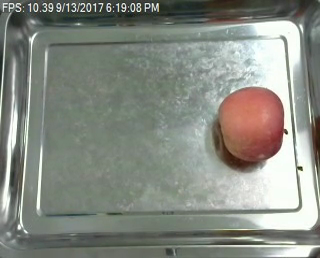Apple: (216, 84, 287, 163)
